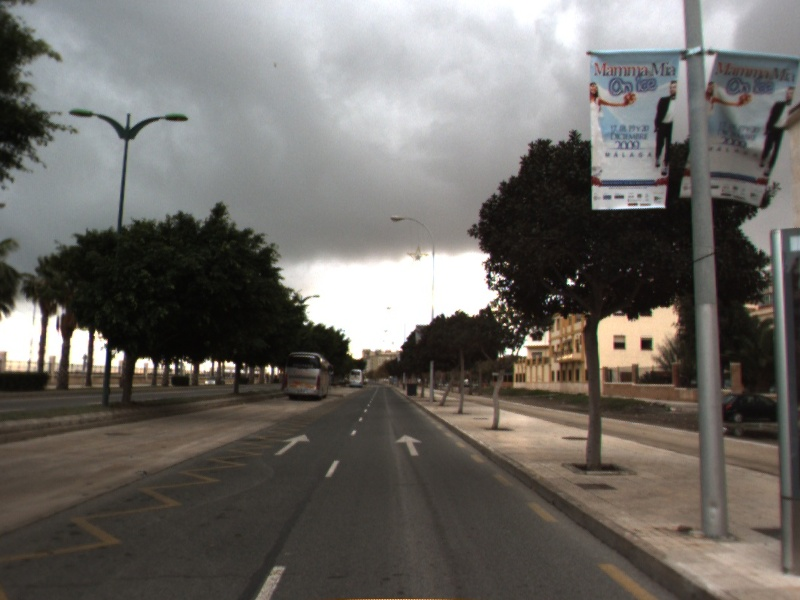STRAIGHT: (272, 432, 312, 457), (393, 432, 425, 458)
